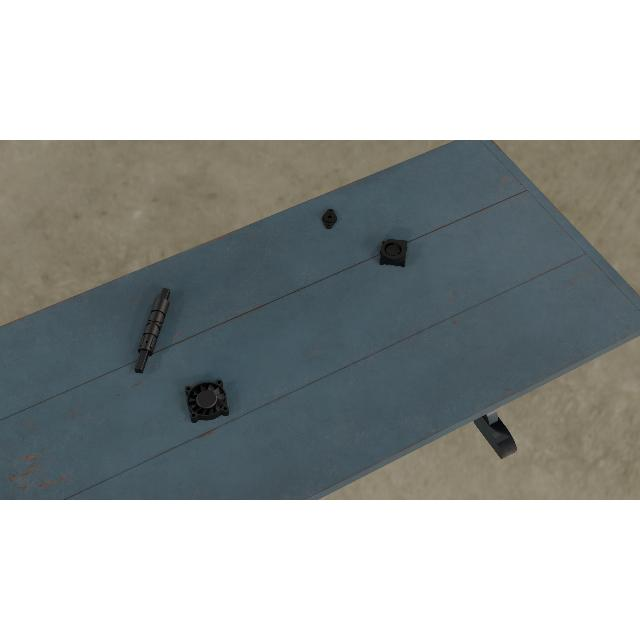Pieza1: (130, 286, 174, 376)
Pieza2: (322, 207, 338, 230)
Pieza3: (379, 238, 408, 268)
Pieza4: (183, 379, 230, 425)
